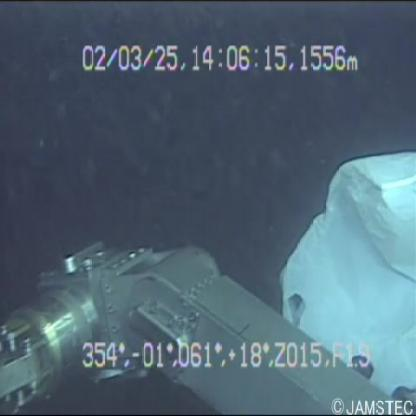Rov: (5, 234, 415, 416)
Rác: (269, 121, 416, 397)
